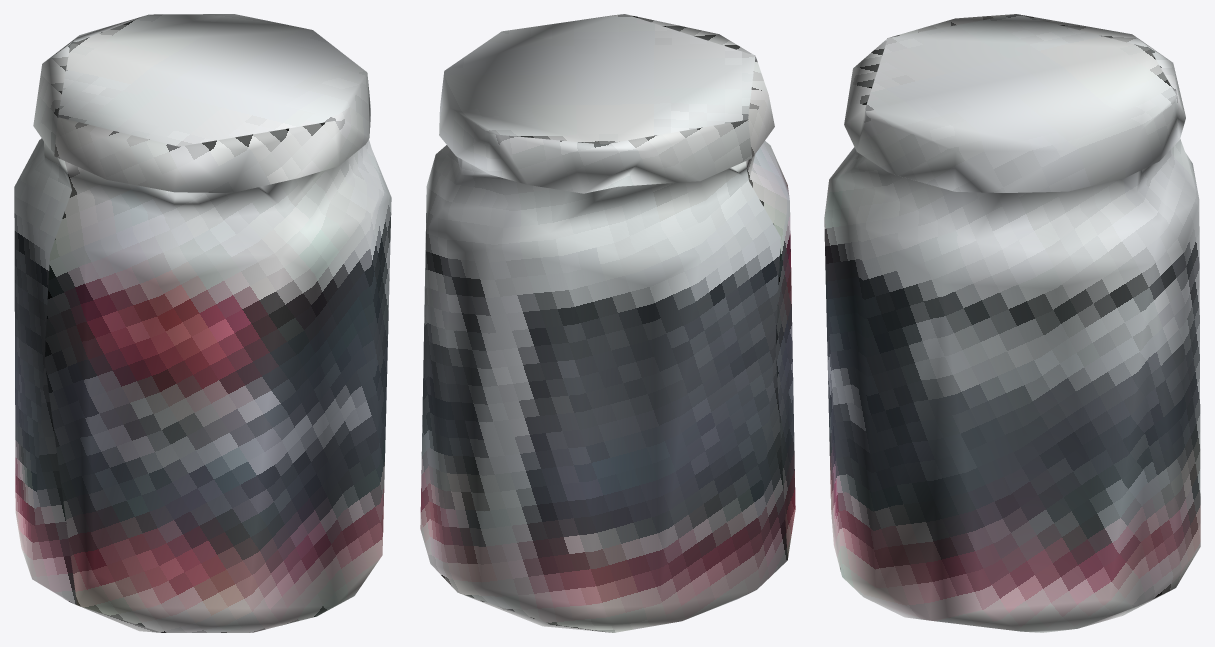
Rendered from Creatine_Monohydrate-low.glb.
The picture shows the model from 3 angles, left to right: view 1: azimuth 30°, elevation 25°; view 2: azimuth 150°, elevation 25°; view 3: azimuth 270°, elevation 25°; orthographic projection.
Parts seen in each view (by area): view 1: Creatine_Monohydrate; view 2: Creatine_Monohydrate; view 3: Creatine_Monohydrate.
Boxes of the visible parts, x1=… form: Creatine_Monohydrate: x1=14, y1=14, x2=391, y2=632; Creatine_Monohydrate: x1=420, y1=14, x2=795, y2=632; Creatine_Monohydrate: x1=824, y1=14, x2=1200, y2=632.
Size of the model in its own units: 0.1265 by 0.1838 by 0.1266.
1 material, 1 textured.
